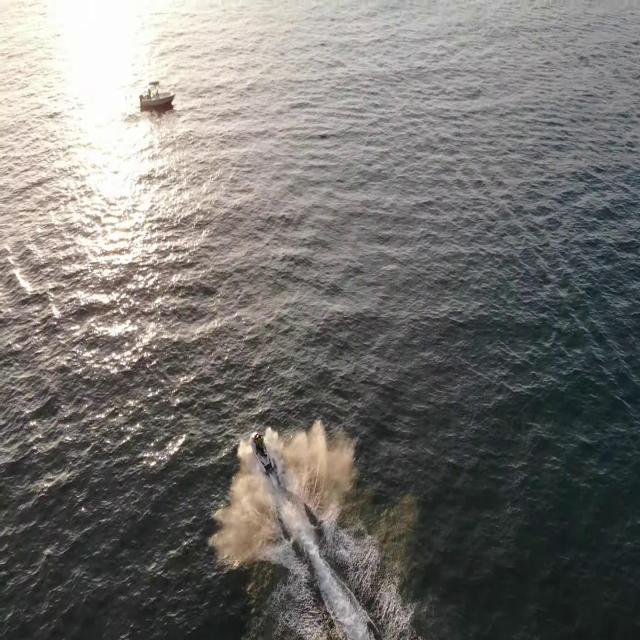boat: (247, 426, 275, 478), (138, 77, 176, 111)
